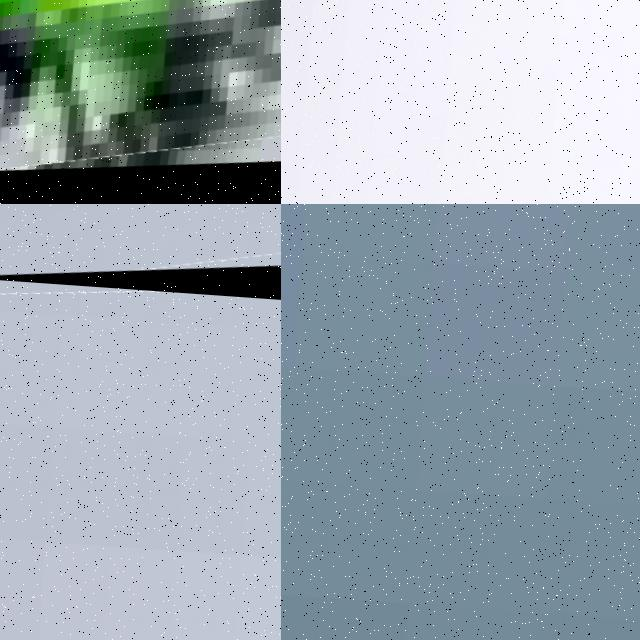0: (0, 0, 281, 204), (0, 204, 281, 322)
drone: (281, 0, 640, 204)
